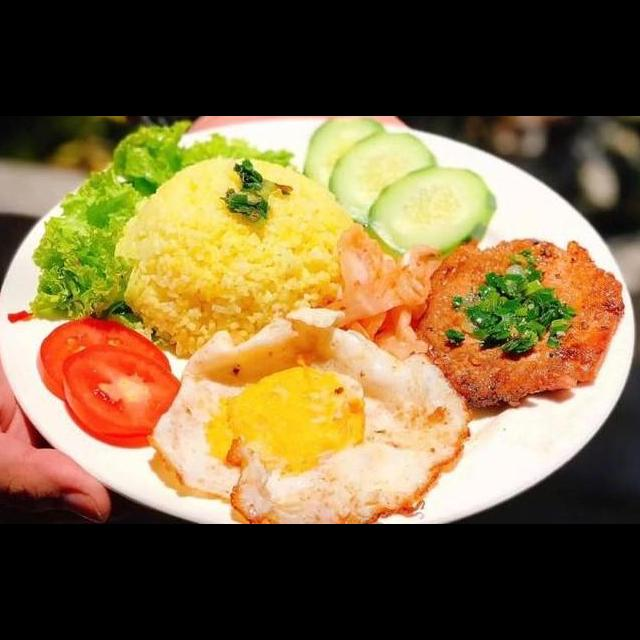com: (264, 278, 530, 484)
com suon trung: (14, 145, 630, 524)
dua chua: (195, 280, 322, 418)
suon: (12, 228, 228, 407)
trung: (162, 117, 496, 338)
